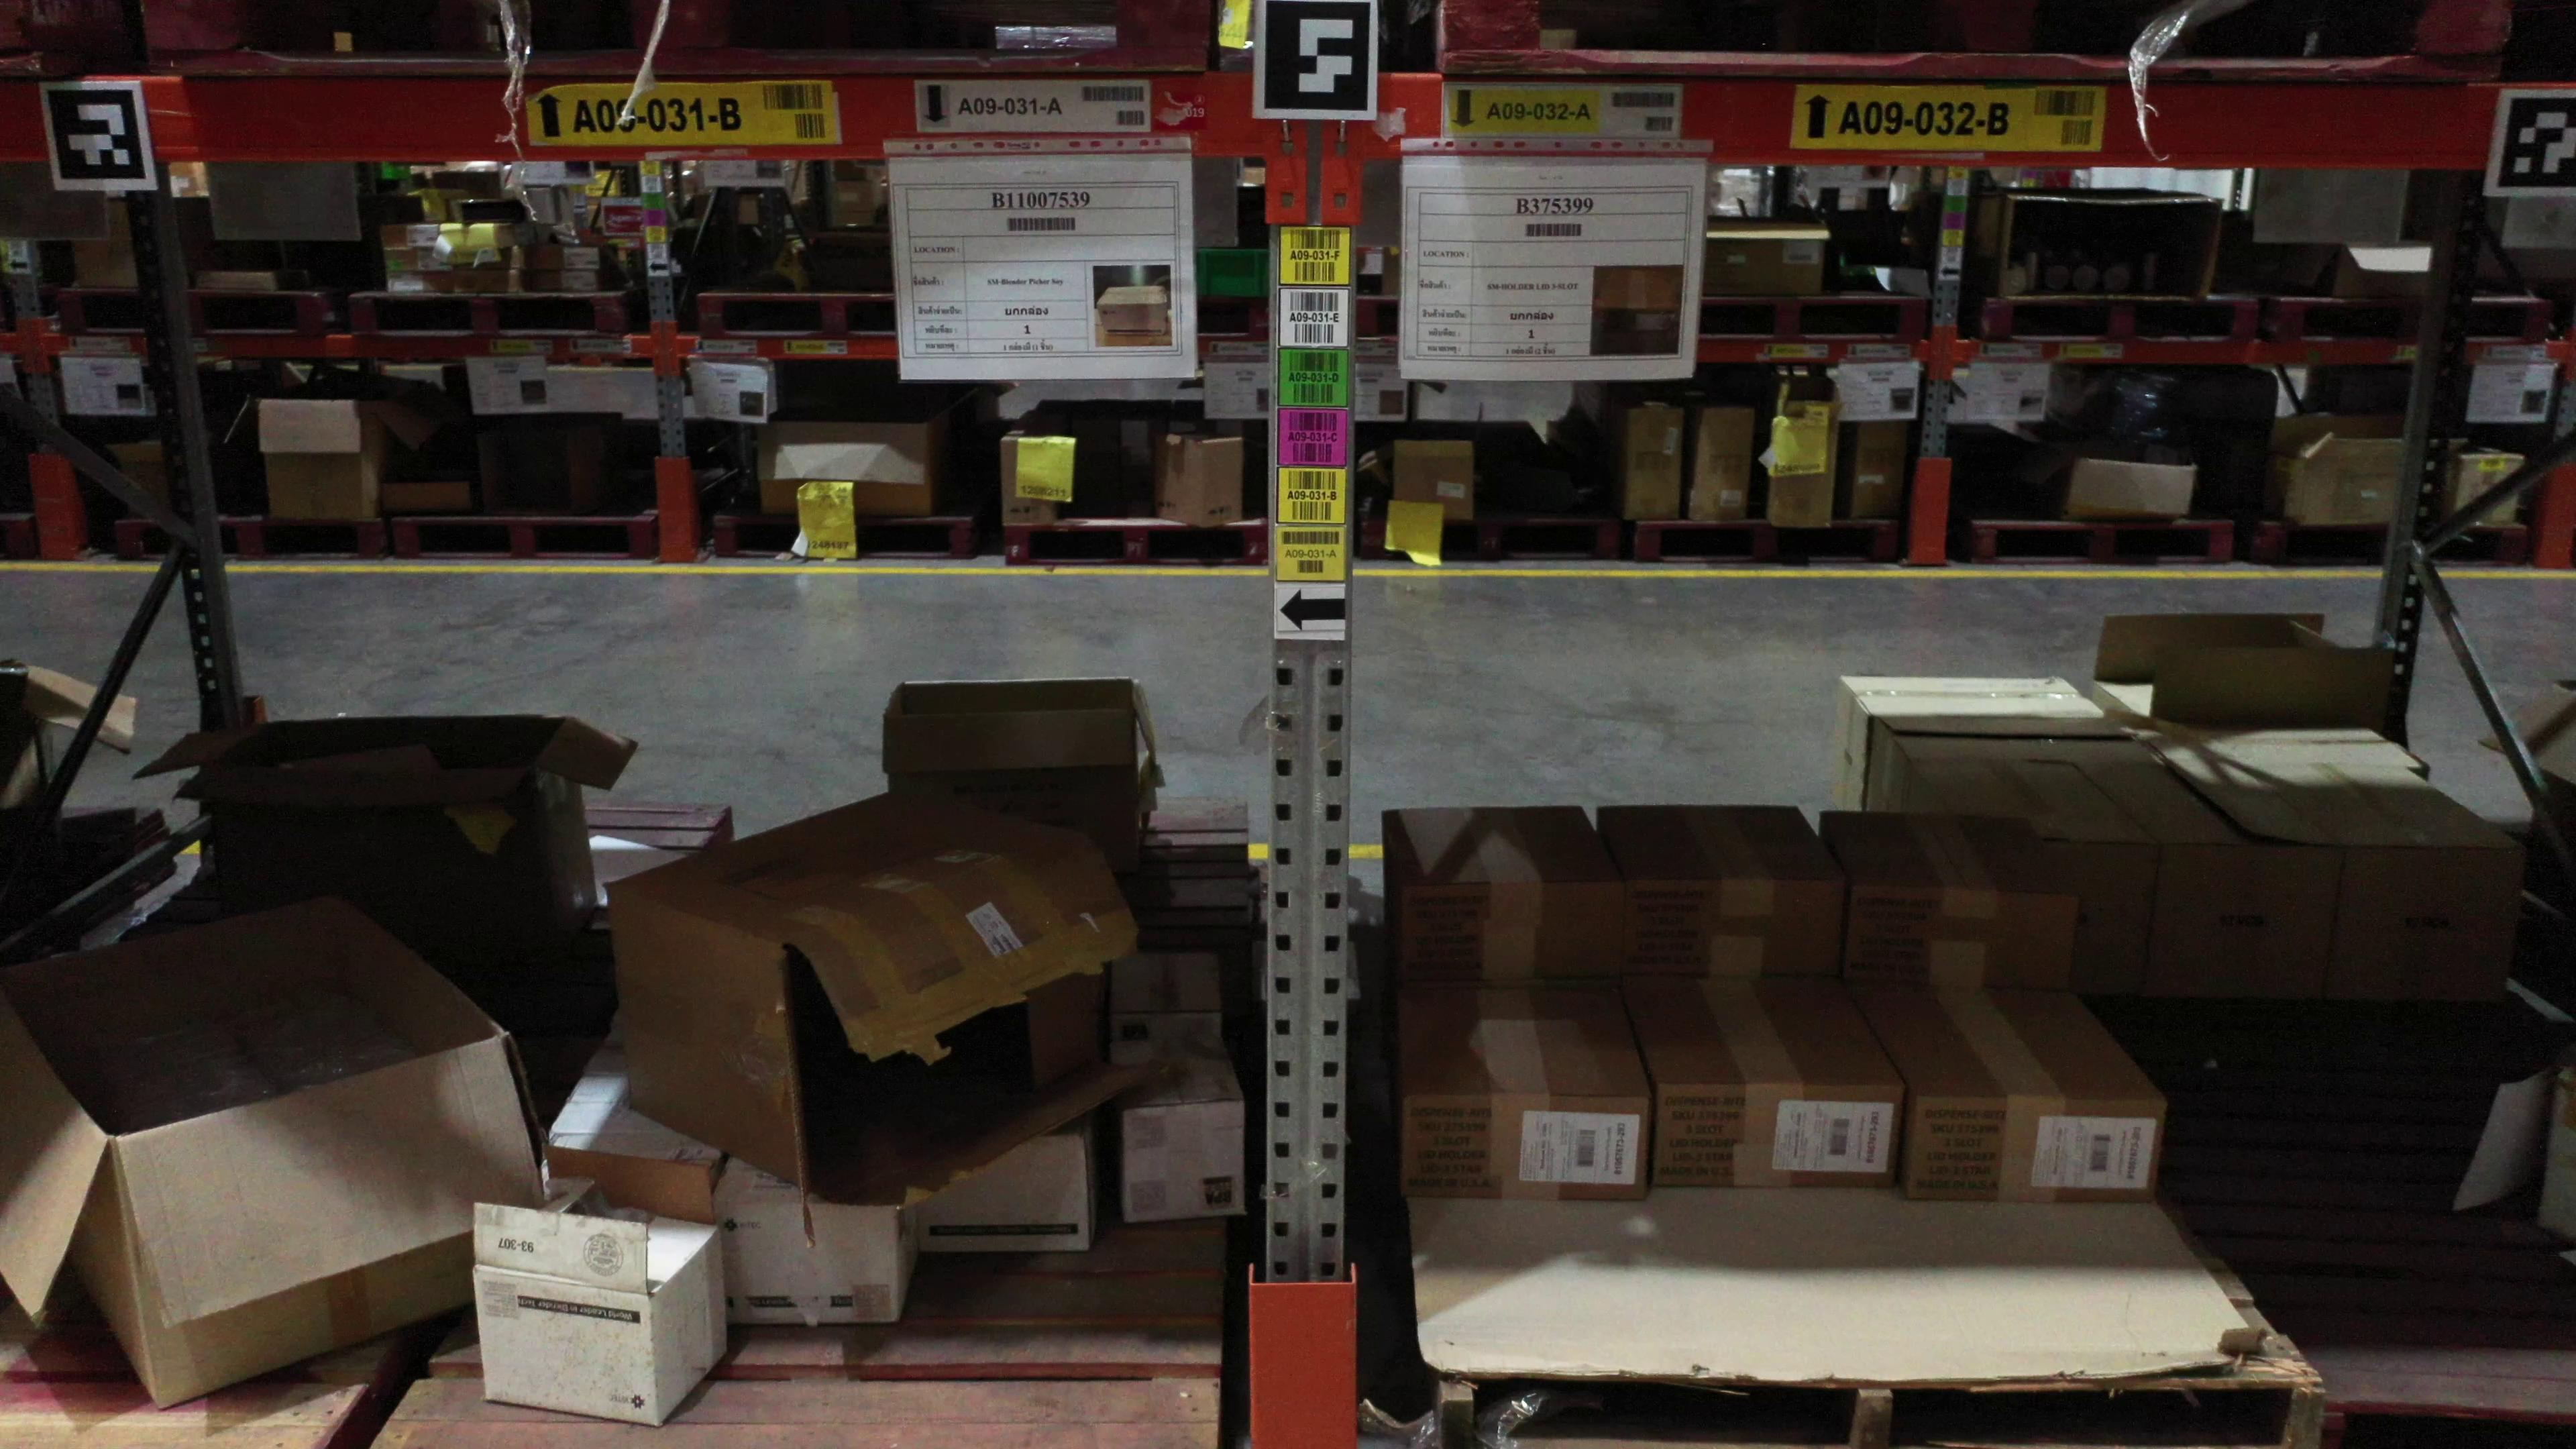-: (104, 1035, 545, 1415), (617, 890, 814, 1198), (1904, 1093, 2167, 1210), (474, 1265, 658, 1430), (1647, 1079, 1905, 1192), (1840, 879, 2079, 998), (1398, 1093, 1647, 1203), (1396, 876, 1624, 989), (715, 1201, 901, 1332), (1619, 879, 1838, 984), (916, 1136, 1090, 1254), (1120, 1102, 1247, 1228)
box: (203, 771, 550, 977), (2141, 840, 2348, 1008), (2330, 846, 2528, 1008), (2042, 837, 2158, 994)
